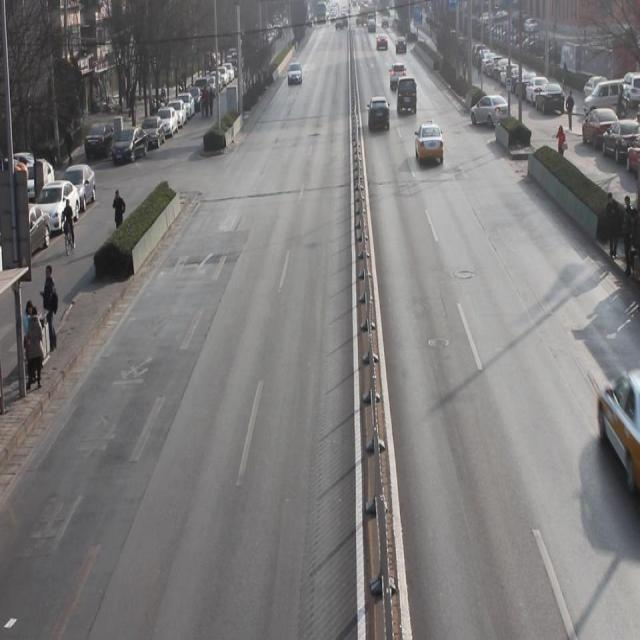car: (414, 122, 447, 170), (367, 97, 392, 132), (389, 61, 406, 90), (287, 58, 303, 87)
truck: (397, 74, 418, 117)
